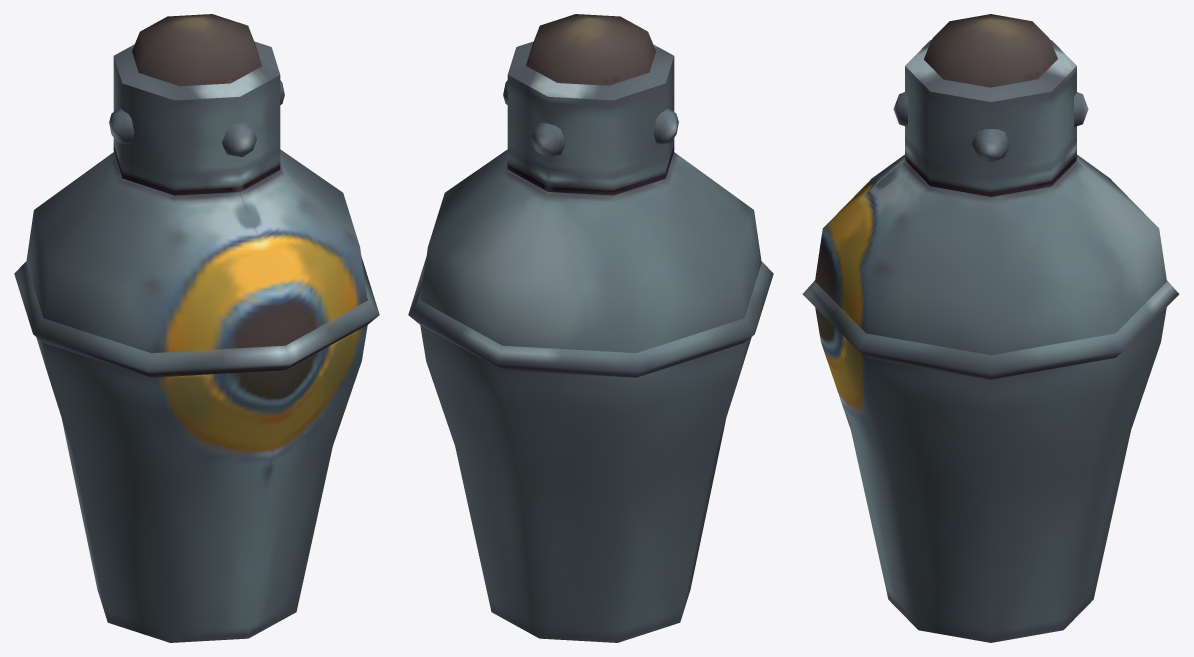
3 views of the same model, side by side, from view 1: azimuth 30°, elevation 25°; view 2: azimuth 150°, elevation 25°; view 3: azimuth 270°, elevation 25° (orthographic).
Visible parts, largest first — view 1: EYE_ZUN_O_Ac_cocktail01; view 2: EYE_ZUN_O_Ac_cocktail01; view 3: EYE_ZUN_O_Ac_cocktail01.
Boxes of the visible parts, left/top/right/bottom form: EYE_ZUN_O_Ac_cocktail01: left=14, top=14, right=379, bottom=642; EYE_ZUN_O_Ac_cocktail01: left=408, top=14, right=773, bottom=642; EYE_ZUN_O_Ac_cocktail01: left=802, top=14, right=1179, bottom=642.
Size of the model in its own units: 17.45 by 17.45 by 29.59.
